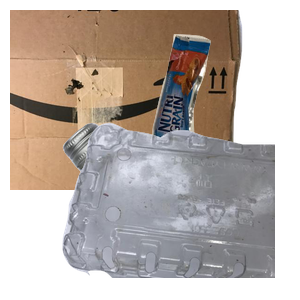cardboard: (10, 10, 245, 190)
glass: (60, 120, 300, 300)
plastic: (60, 120, 300, 300)
trash: (149, 31, 300, 179)
